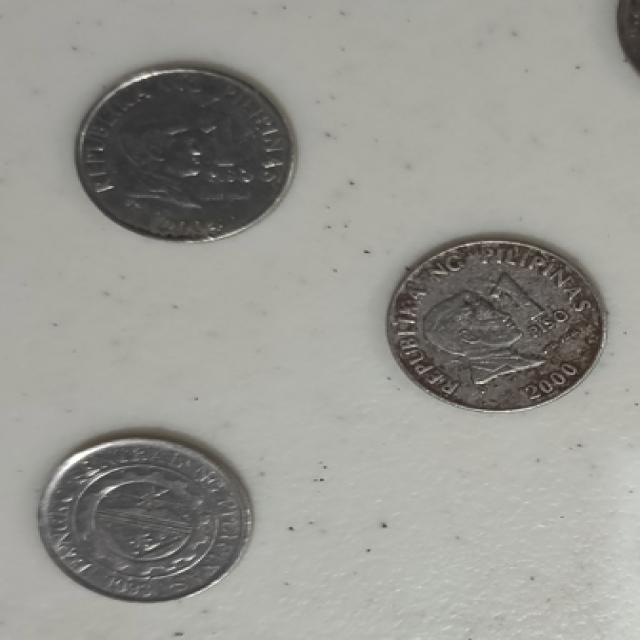1_peso: (76, 68, 293, 241), (387, 238, 602, 411), (40, 438, 250, 601)
